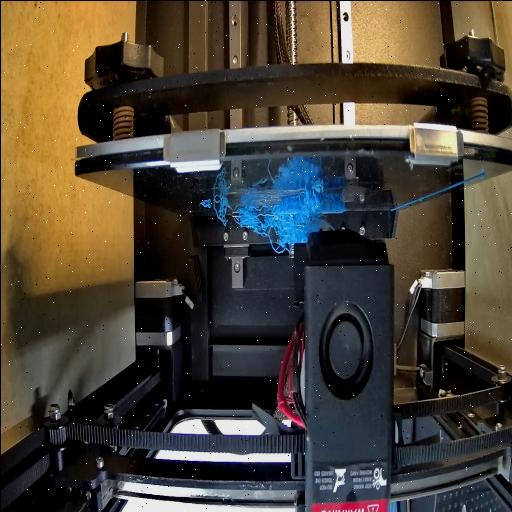spaghetti: (231, 212, 317, 244), (298, 178, 332, 214), (210, 194, 231, 222)
